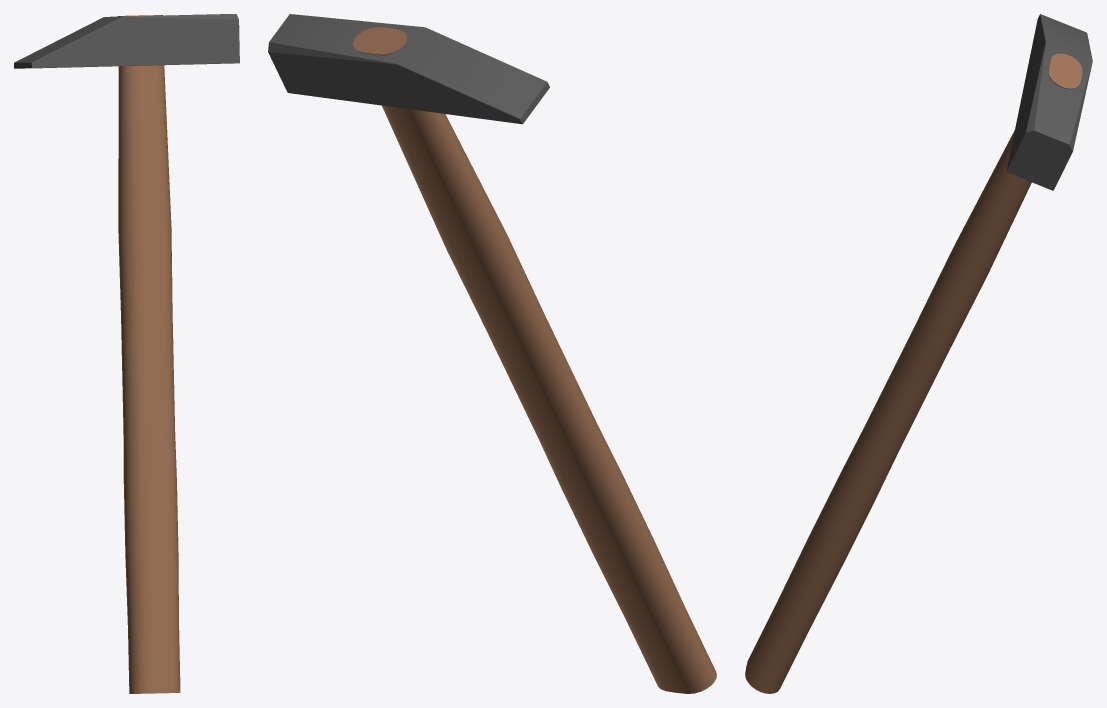
File: SmallHammer.fbx
The picture shows the model from 3 angles, left to right: view 1: azimuth 30°, elevation 25°; view 2: azimuth 150°, elevation 25°; view 3: azimuth 270°, elevation 25°; orthographic projection. The views are drawn at different scales.
Parts seen in each view (by area): view 1: SmallHammer; view 2: SmallHammer; view 3: SmallHammer.
Part boxes in pixels (left/top/right/bottom): SmallHammer: left=14, top=14, right=239, bottom=693; SmallHammer: left=268, top=14, right=716, bottom=693; SmallHammer: left=745, top=14, right=1092, bottom=693.
Bounding box in the file's own units: 7.67 × 19.34 × 8.83.
